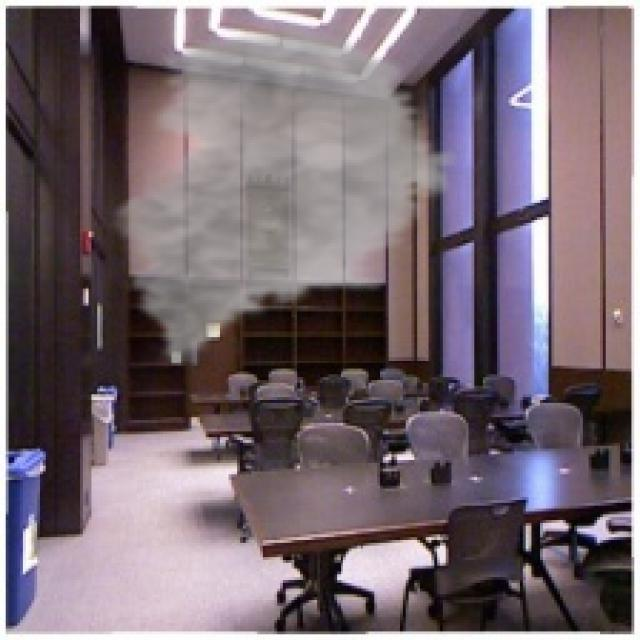Smoke: (103, 22, 466, 368)
